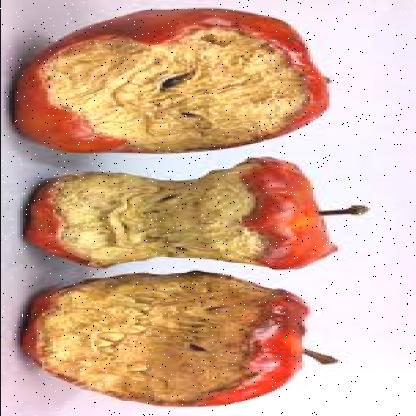damaged_apple: (17, 6, 331, 156), (19, 274, 309, 406), (27, 155, 323, 271)
